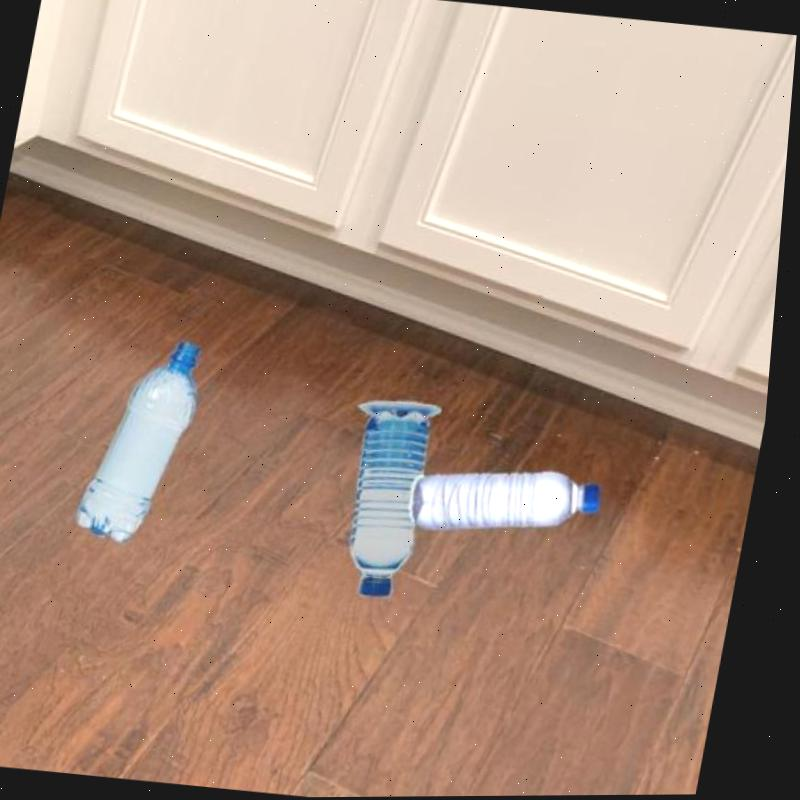botella: (78, 334, 213, 545), (346, 403, 448, 600), (414, 454, 617, 545)
